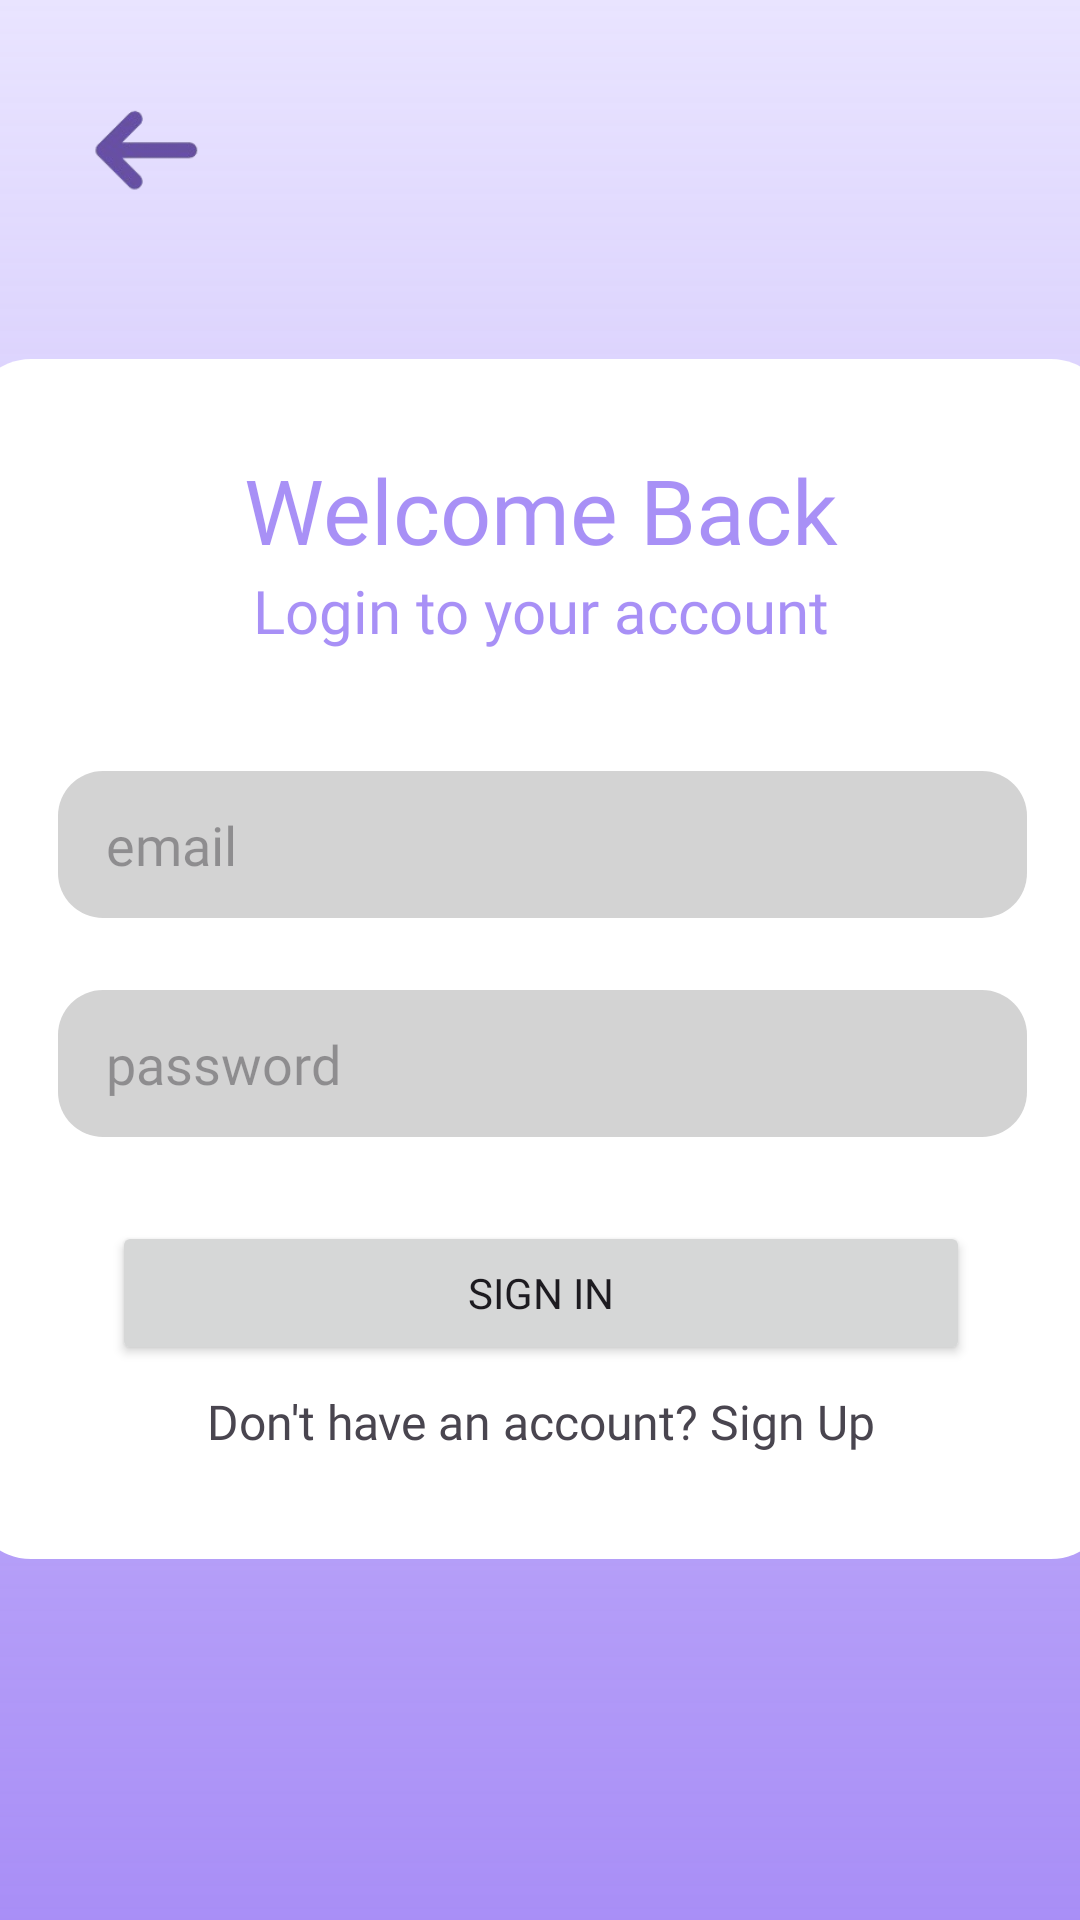

Point at icon controls on the screen. Image size 1080x1920, points as (x,y).
back: (146,150)
